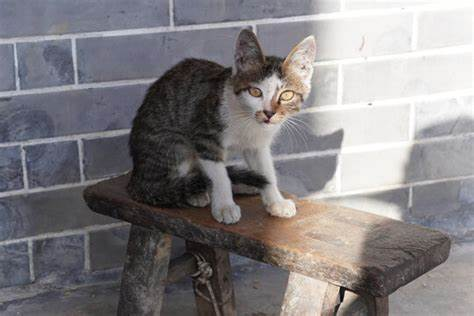cat: (129, 28, 318, 223)
